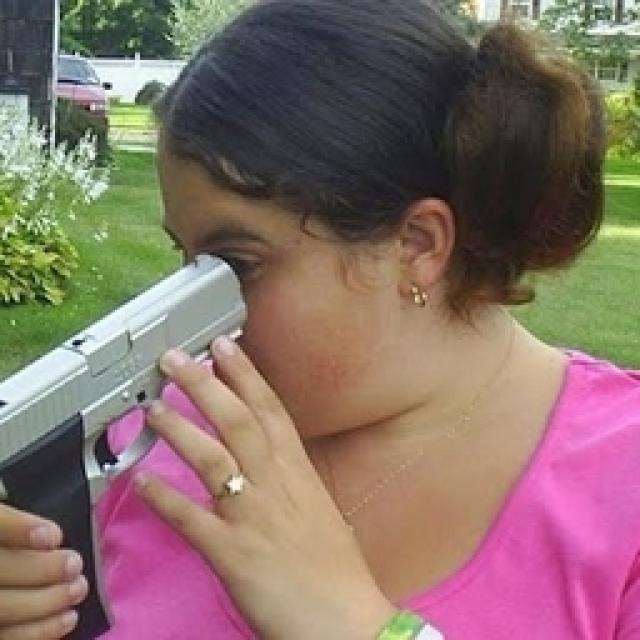HandGun: (0, 255, 248, 640)
